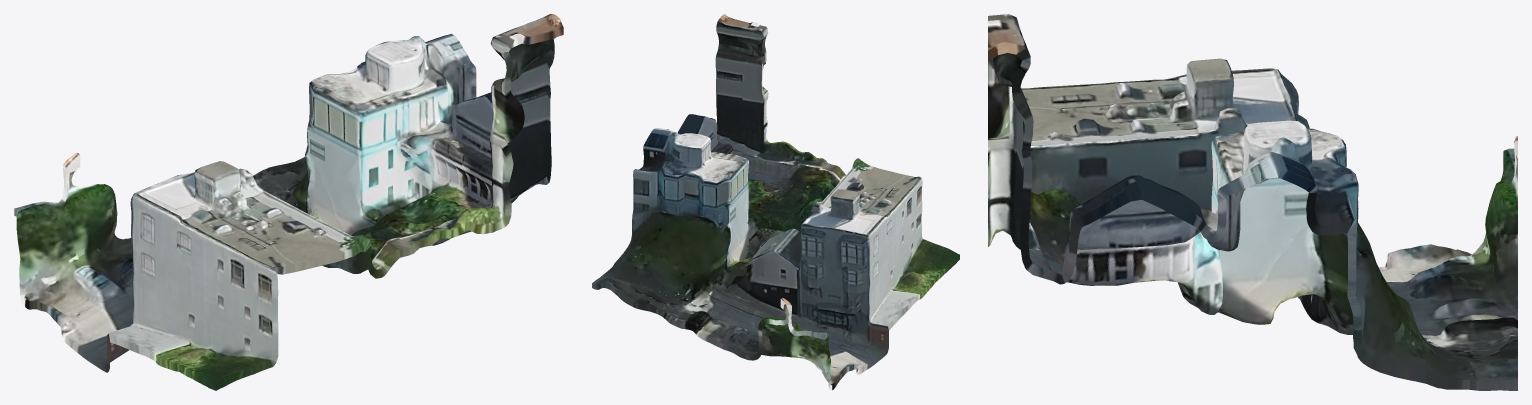
Rendered from z20-167754-405198-h0-yup-uvflip-v3-world.glb.
The picture shows the model from 3 angles, left to right: view 1: azimuth 30°, elevation 25°; view 2: azimuth 150°, elevation 25°; view 3: azimuth 270°, elevation 25°; orthographic projection. The views are drawn at different scales.
Bounding box in the file's own units: 30.16 × 28.92 × 30.32.
1 material, 1 textured.
